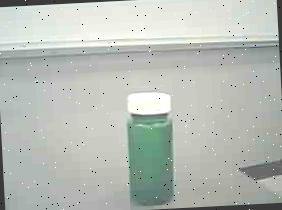Bottle C: (112, 82, 189, 210)
